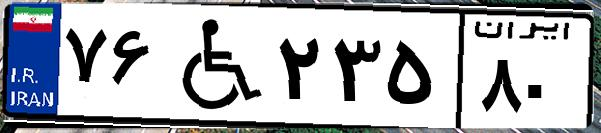0: (525, 38, 570, 115)
2: (270, 28, 330, 110)
3: (330, 28, 385, 110)
5: (385, 28, 445, 110)
6: (110, 28, 158, 98)
7: (57, 26, 110, 100)
8: (475, 38, 525, 113)
ژ (معلولین و جانبازان): (158, 12, 270, 120)
